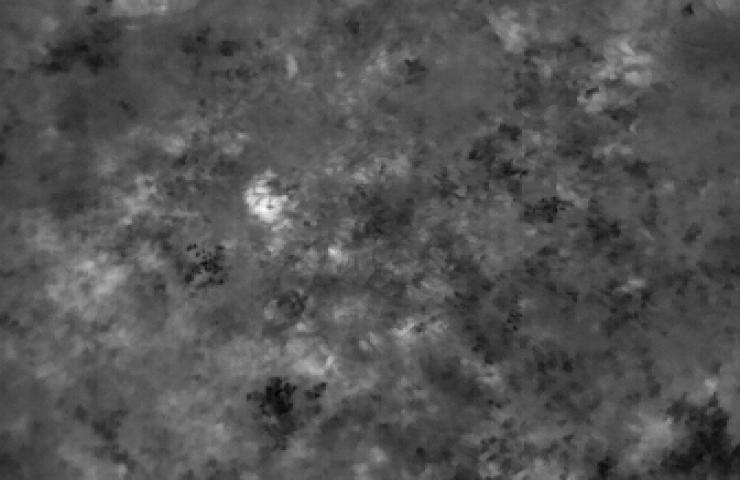landmines: (243, 170, 300, 229)
